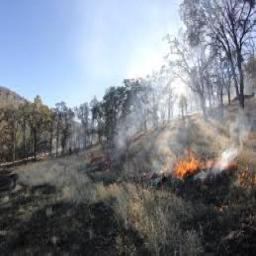Low smoke: (83, 47, 256, 181)
Small fire: (172, 154, 240, 192)
